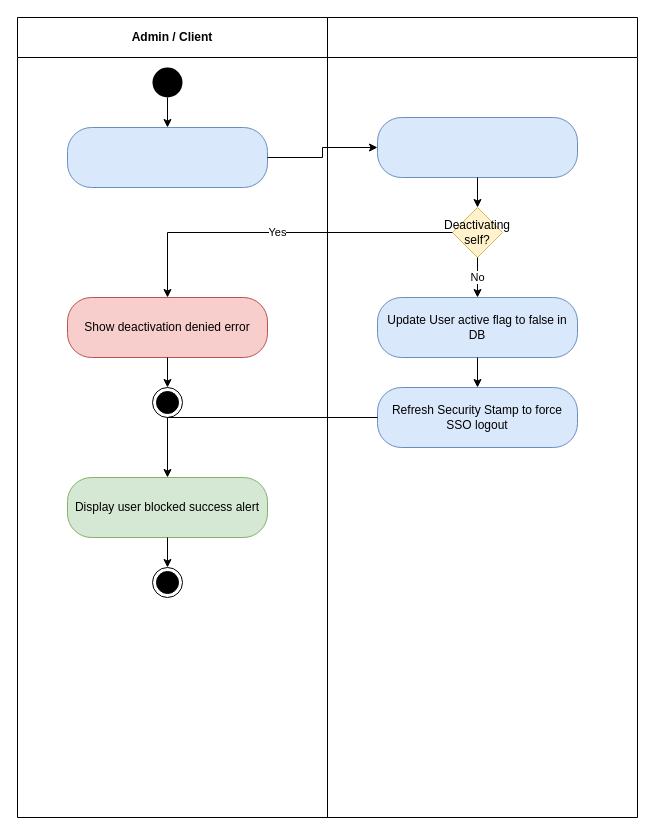
This 655x835 diagram has some shape labels left out. Each missing label, with the box of its shape:
System / Backend: (326, 16, 638, 818)
Trigger User Block / Deactivate action: (66, 126, 268, 188)
Verify Self-Deactivation constraint: (376, 116, 578, 178)
